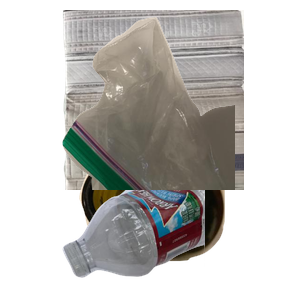glass: (77, 147, 295, 300)
paper: (60, 10, 300, 190)
plastic: (60, 190, 300, 280)
trash: (60, 14, 300, 194)
